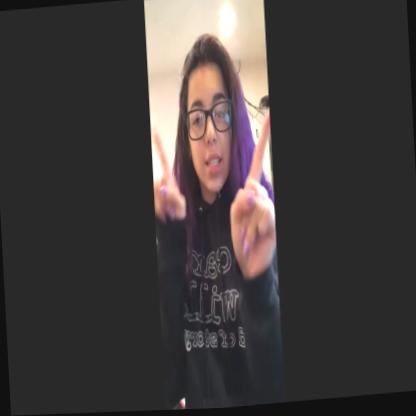NiceToMeetYou: (148, 103, 276, 297)
